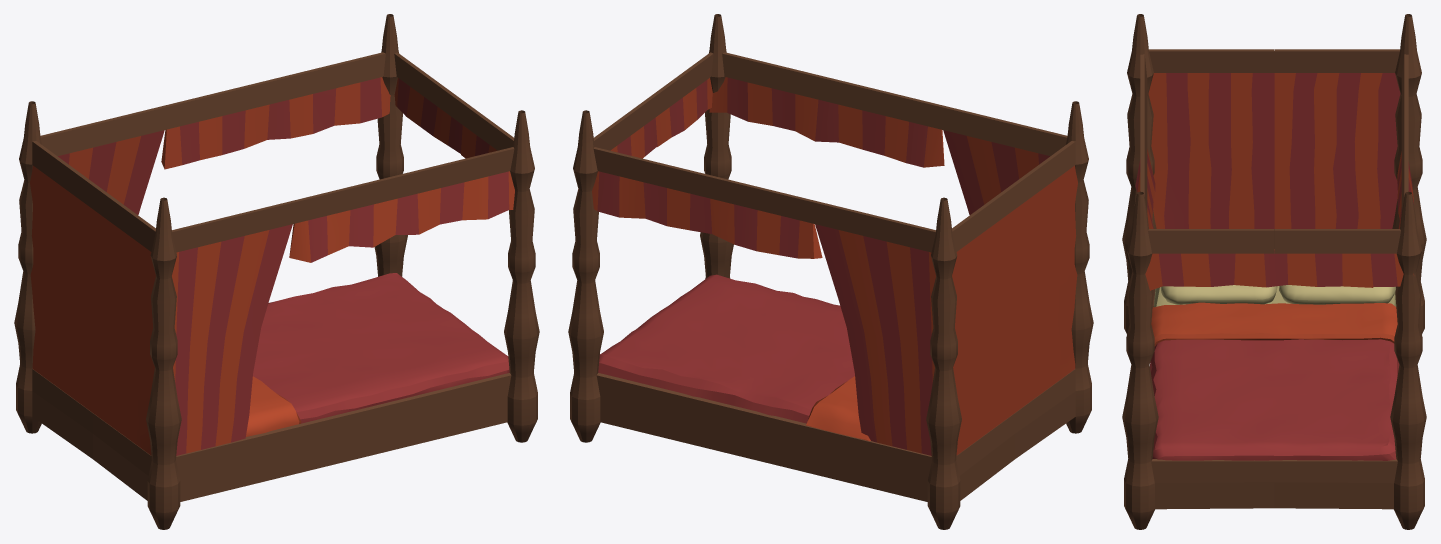
The model's file is Bed.fbx.
The picture shows the model from 3 angles, left to right: view 1: azimuth 30°, elevation 25°; view 2: azimuth 150°, elevation 25°; view 3: azimuth 270°, elevation 25°; orthographic projection.
Parts seen in each view (by area): view 1: Bed_Body, MAttress, Curtains_02, Curtains_01, Curtains_05, Curtains_03, Curtains_06, Curtains_04; view 2: Bed_Body, MAttress, Curtains_02, Curtains_06, Curtains_03, Curtains_05, Curtains_01, Curtains_04; view 3: Bed_Body, MAttress, Curtains_02, Curtains_04, Pillow_1, Pillow_2, Curtains_03, Curtains_05.
Boxes of the visible parts, x1=… form: Bed_Body: x1=14, y1=14, x2=539, y2=529; MAttress: x1=246, y1=273, x2=509, y2=436; Curtains_02: x1=30, y1=165, x2=155, y2=455; Curtains_01: x1=172, y1=224, x2=292, y2=455; Curtains_05: x1=161, y1=77, x2=390, y2=169; Curtains_03: x1=289, y1=171, x2=514, y2=262; Curtains_06: x1=58, y1=130, x2=164, y2=214; Curtains_04: x1=394, y1=78, x2=497, y2=158; Bed_Body: x1=568, y1=14, x2=1093, y2=529; MAttress: x1=598, y1=274, x2=870, y2=441; Curtains_02: x1=952, y1=165, x2=1077, y2=455; Curtains_06: x1=815, y1=224, x2=935, y2=455; Curtains_03: x1=709, y1=77, x2=944, y2=167; Curtains_05: x1=592, y1=171, x2=822, y2=258; Curtains_01: x1=943, y1=130, x2=1049, y2=214; Curtains_04: x1=578, y1=78, x2=712, y2=189; Bed_Body: x1=1122, y1=14, x2=1426, y2=529; MAttress: x1=1150, y1=286, x2=1399, y2=460; Curtains_02: x1=1148, y1=73, x2=1400, y2=228; Curtains_04: x1=1145, y1=249, x2=1414, y2=290; Pillow_1: x1=1160, y1=285, x2=1277, y2=304; Pillow_2: x1=1279, y1=285, x2=1395, y2=304; Curtains_03: x1=1135, y1=149, x2=1155, y2=228; Curtains_05: x1=1397, y1=151, x2=1414, y2=228.
Size of the model in its own units: 390 by 314 by 260.
